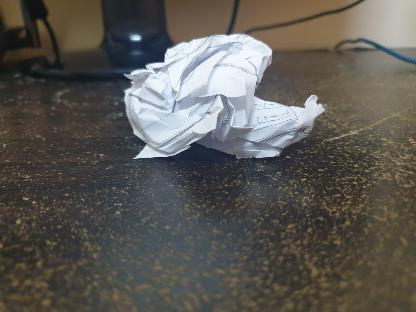Paper: (109, 24, 329, 162)
